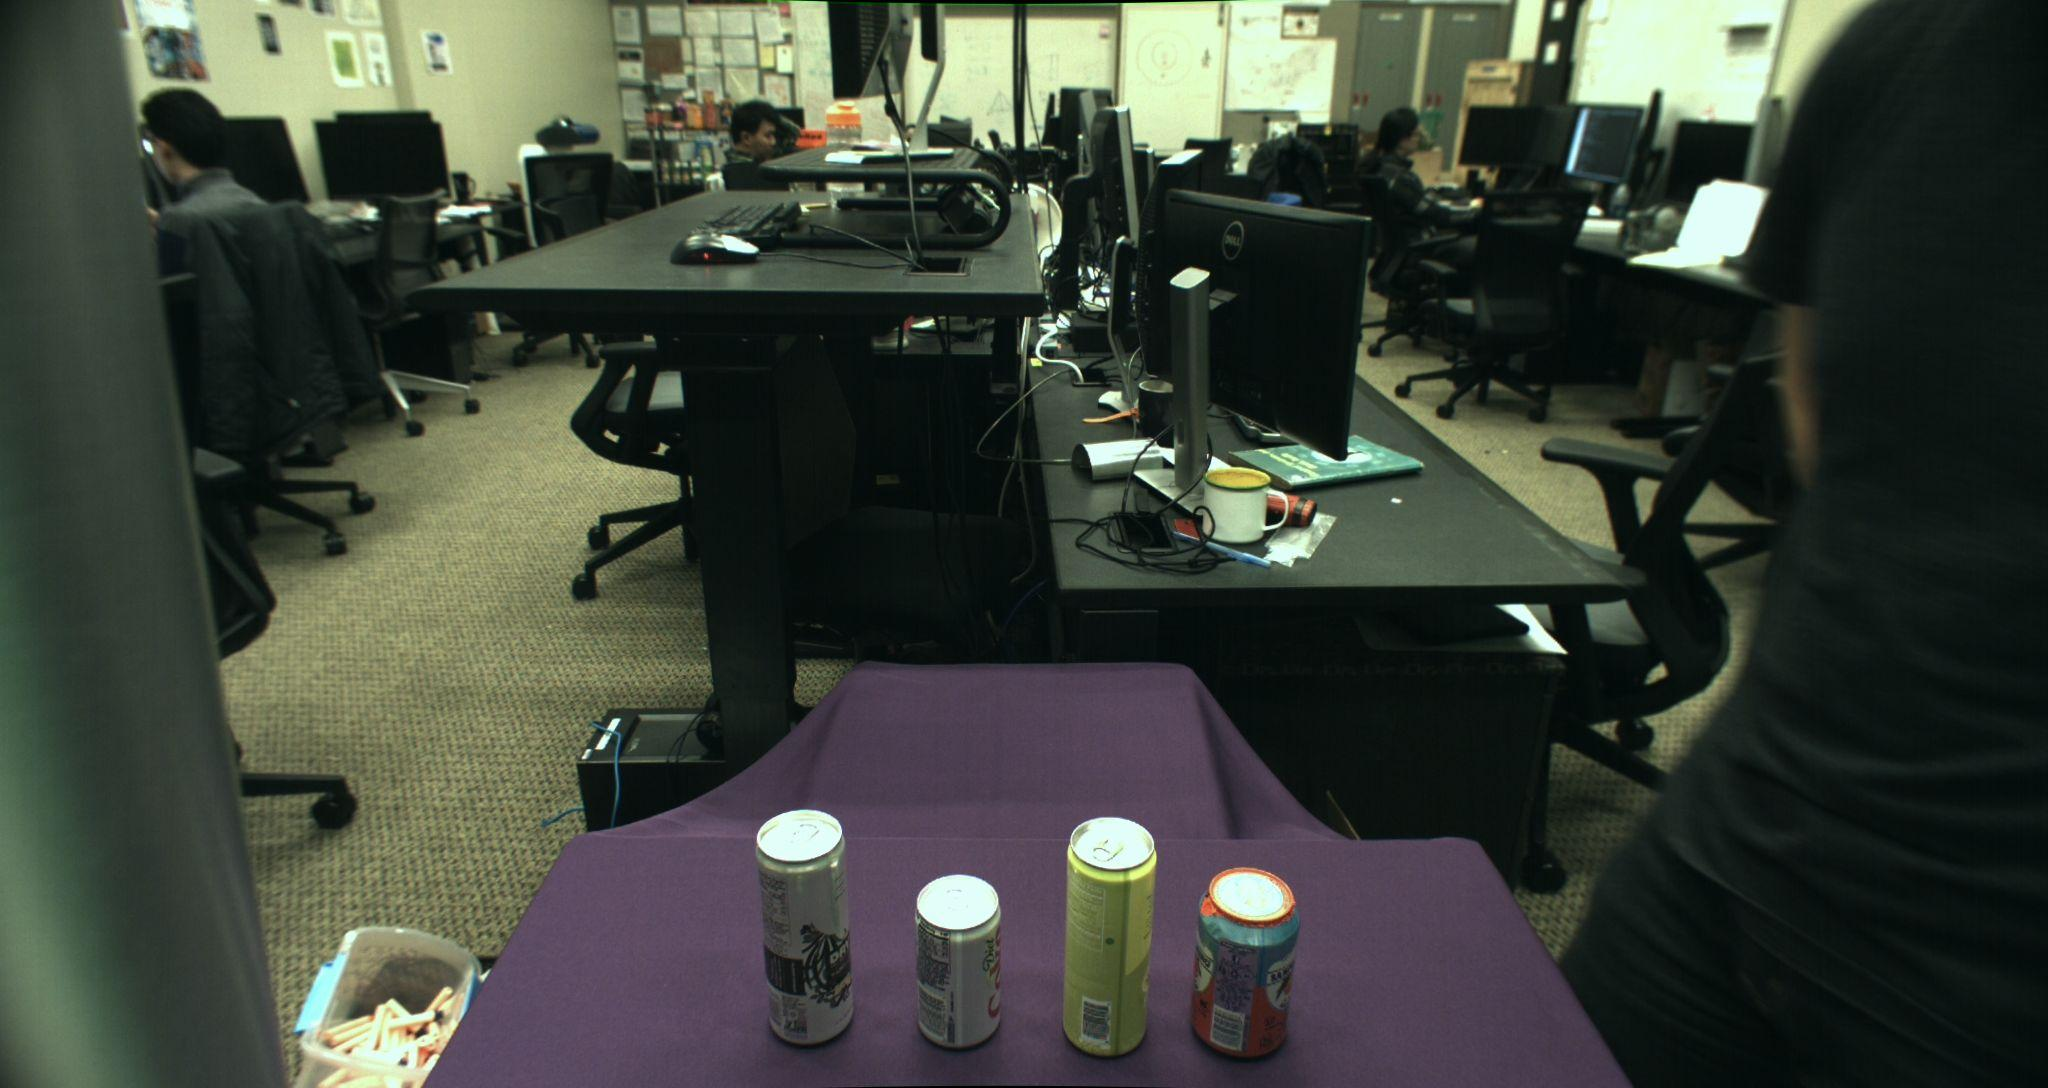can_diet_coke_small: (916, 874, 1004, 1049)
can_dry_sparkling_vanilla_bean: (754, 808, 856, 1045)
can_izze_fusions_lemon_lime: (1061, 816, 1157, 1055)
can_sanpellegrino_blood_orange: (1191, 867, 1300, 1060)
